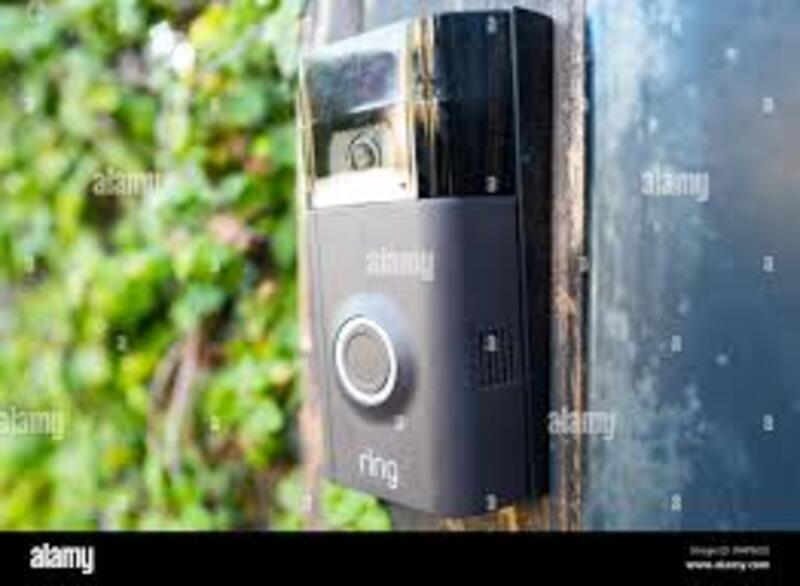doorbell: (293, 37, 552, 520)
